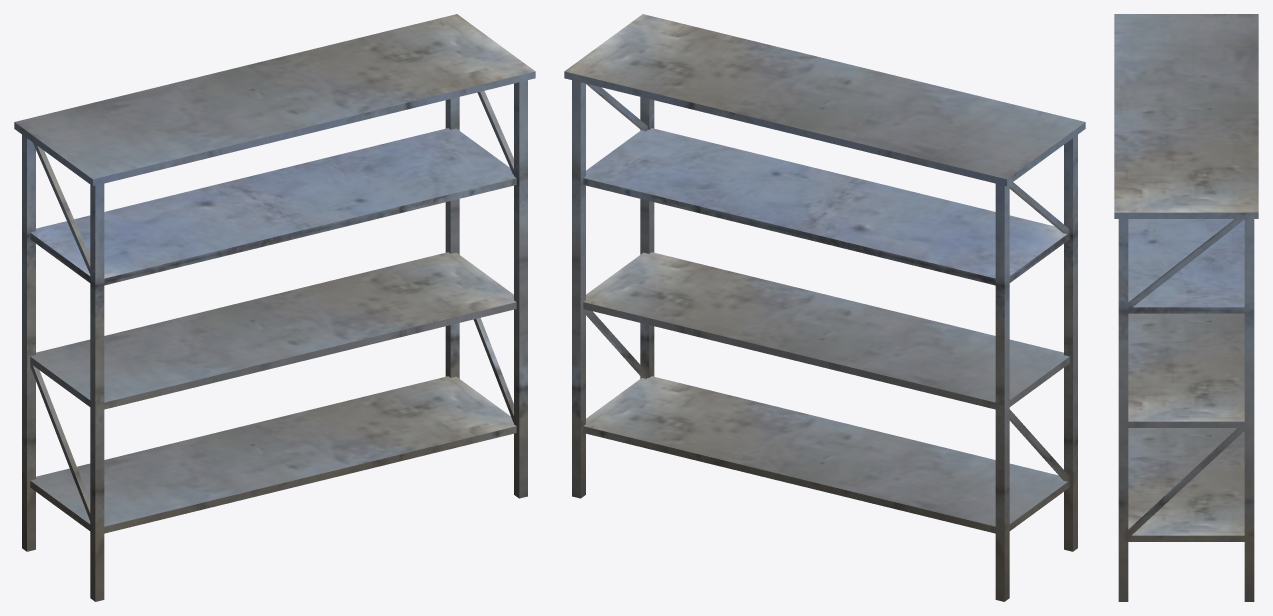
File: gas_shelf_metal.fbx
The picture shows the model from 3 angles, left to right: view 1: azimuth 30°, elevation 25°; view 2: azimuth 150°, elevation 25°; view 3: azimuth 270°, elevation 25°; orthographic projection. The views are drawn at different scales.
Visible parts, largest first — view 1: gas_shelf_metal; view 2: gas_shelf_metal; view 3: gas_shelf_metal.
Part boxes in pixels (box(x1,y1,x2,y2)): gas_shelf_metal: box(14, 14, 535, 601); gas_shelf_metal: box(564, 14, 1085, 601); gas_shelf_metal: box(1114, 14, 1258, 601).
Bounding box in the file's own units: 2.75 × 2.52 × 0.8428.
1 material, 1 textured.
